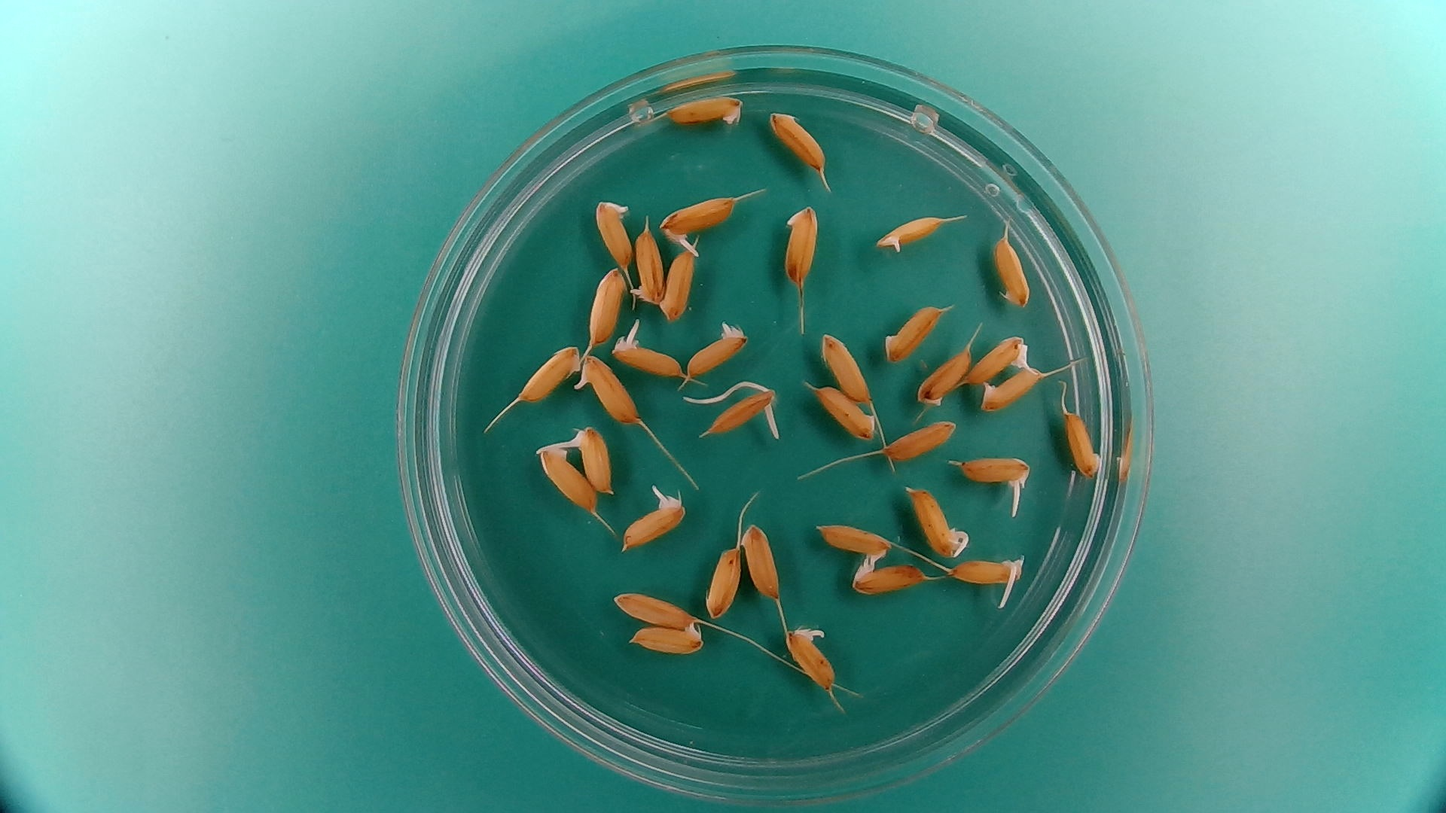no: (535, 442, 599, 514), (818, 330, 873, 406), (809, 382, 877, 442), (767, 107, 828, 172), (516, 341, 578, 403), (882, 416, 961, 464), (914, 344, 974, 407), (977, 363, 1051, 413), (610, 587, 698, 629), (882, 302, 943, 362), (781, 202, 822, 288), (814, 519, 893, 562), (592, 196, 636, 273), (740, 520, 782, 600), (850, 553, 929, 595), (1061, 407, 1105, 482), (990, 229, 1031, 309), (586, 265, 627, 343), (664, 91, 746, 129), (703, 543, 742, 619), (657, 248, 695, 324), (624, 622, 705, 656), (630, 227, 664, 306)
yes: (572, 355, 641, 425), (907, 486, 968, 559), (684, 318, 751, 379), (705, 385, 777, 440), (659, 195, 740, 242), (964, 333, 1033, 385), (783, 628, 837, 693), (621, 498, 687, 550), (873, 212, 946, 255), (576, 416, 615, 495), (617, 339, 685, 379), (956, 453, 1030, 489), (953, 556, 1023, 589)
